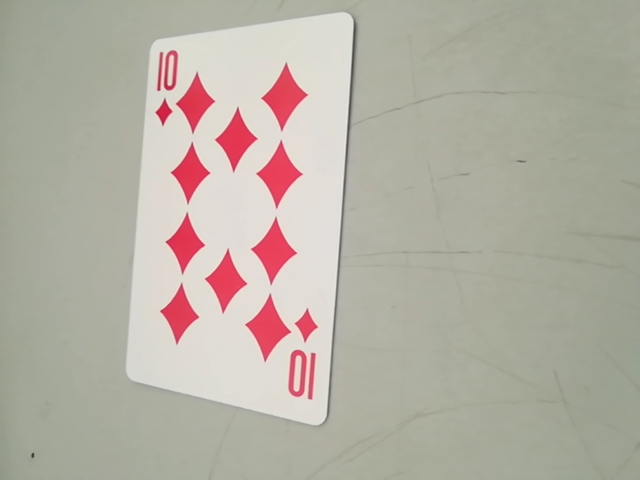fk 10: (286, 314, 325, 412), (152, 43, 189, 122)
